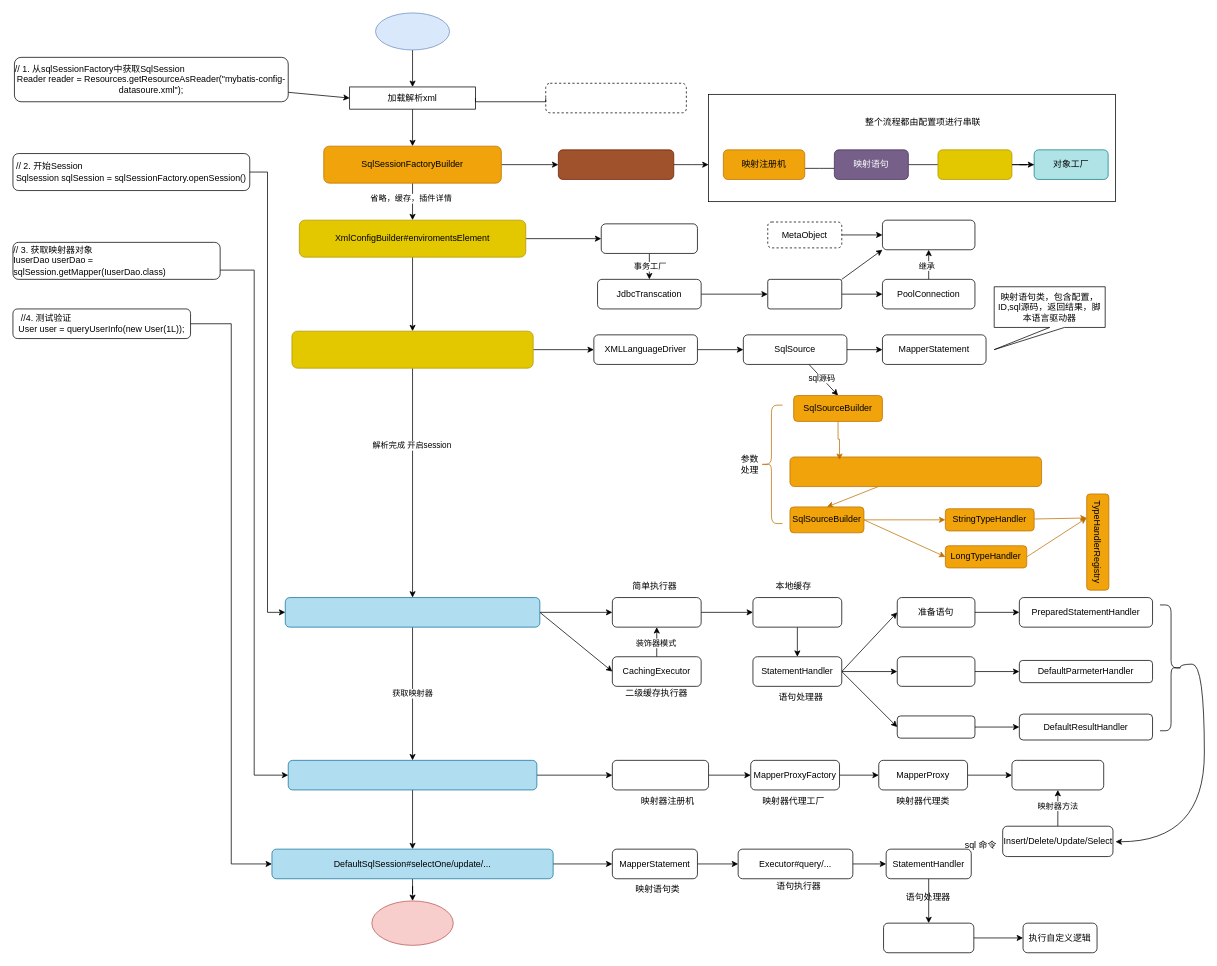
This 1217x966 diagram has some shape labels left out. The shapes that lost their labels are listed below. From the top down, each one's box as (x1, y1, x2, y2) in pixels, then its label:
(375, 12, 450, 50): 开始
(545, 83, 686, 113): mybatis-config-datasource.xml
(558, 149, 674, 179): new Configuration()
(937, 149, 1012, 179): 类型注册机
(601, 223, 697, 253): TranscationFactory
(882, 219, 975, 250): UnPoolConnection
(767, 279, 842, 309): DataSource
(291, 330, 533, 368): XMLconfigBuilder#mapperElement
(789, 456, 1042, 487): ParameterMappingTokenHandler#buildParameterMapping
(285, 597, 540, 627): DefaultSqlSessionFactory#OpenSession
(612, 597, 701, 627): SimpleExecutor
(752, 597, 842, 627): PerpetualCache
(897, 656, 975, 686): 参数化
(897, 715, 975, 738): 执行语句
(287, 760, 537, 790): DefaultSqlSession#getMapper
(612, 760, 709, 790): MapperRegistry
(1011, 760, 1104, 790): MapperMethod
(371, 900, 453, 945): 结束
(883, 922, 974, 953): Plugin#invoke
